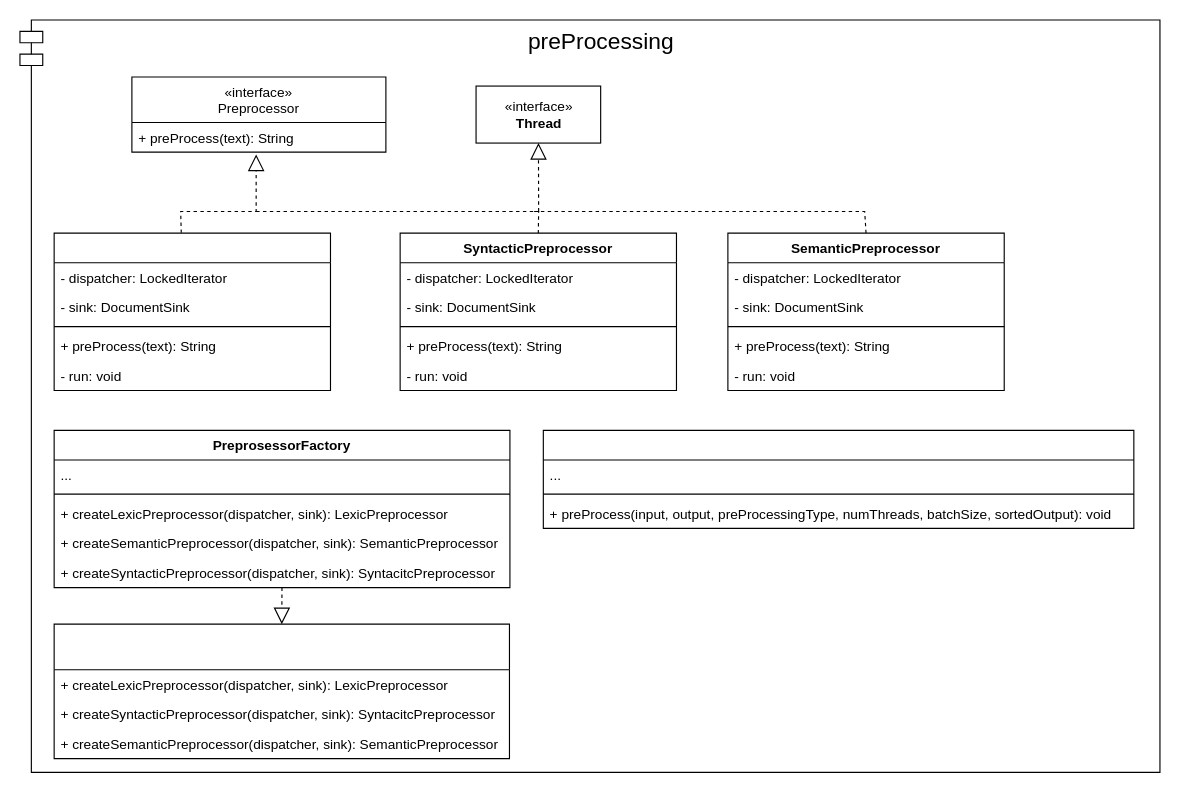
Image size: 1180x792. Some labels were removed from this diagram. Each missing label, with the box of its shape:
LexicPreprocessor: (53, 232, 330, 390)
PreProcessingFacade: (542, 429, 1134, 528)
«interface» PreprocessorAbstractFactory: (53, 623, 509, 759)
